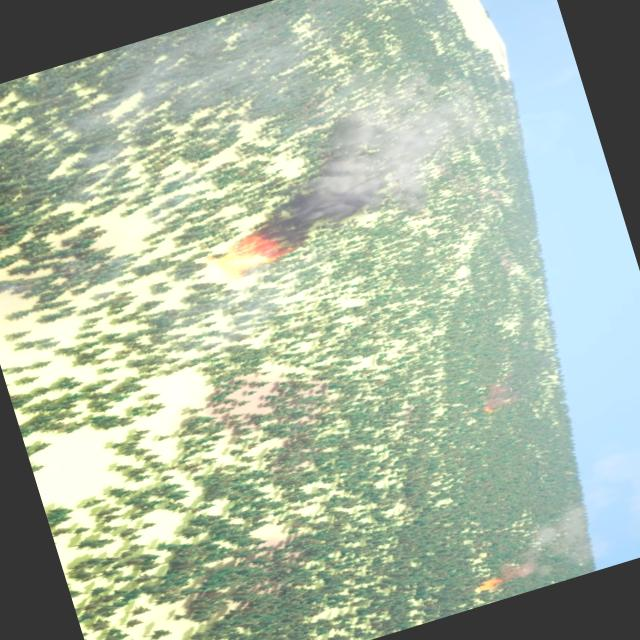fire: (202, 228, 283, 284), (469, 576, 503, 598)
smoke: (247, 61, 502, 250), (477, 435, 640, 590), (473, 381, 517, 416)
